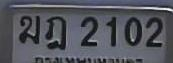0: (124, 16, 141, 45)
1: (106, 16, 116, 46)
2: (144, 16, 162, 46), (80, 16, 97, 46)
A06: (18, 15, 39, 43)
A14: (44, 15, 66, 49)
